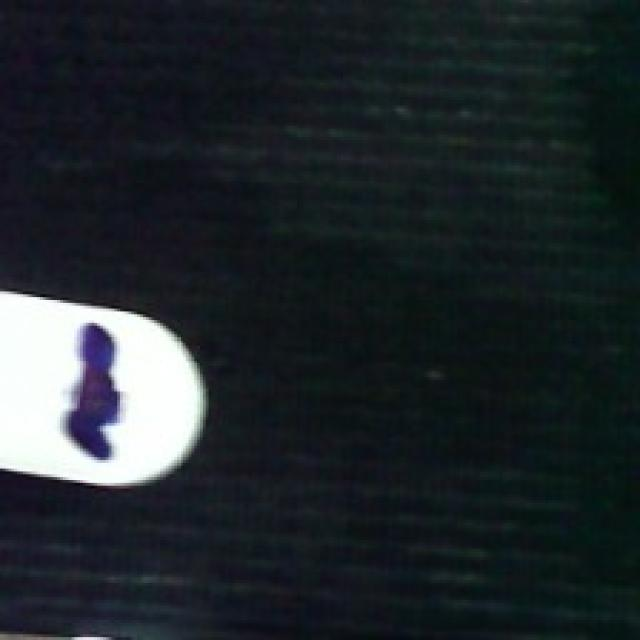defected: (0, 282, 211, 488)
